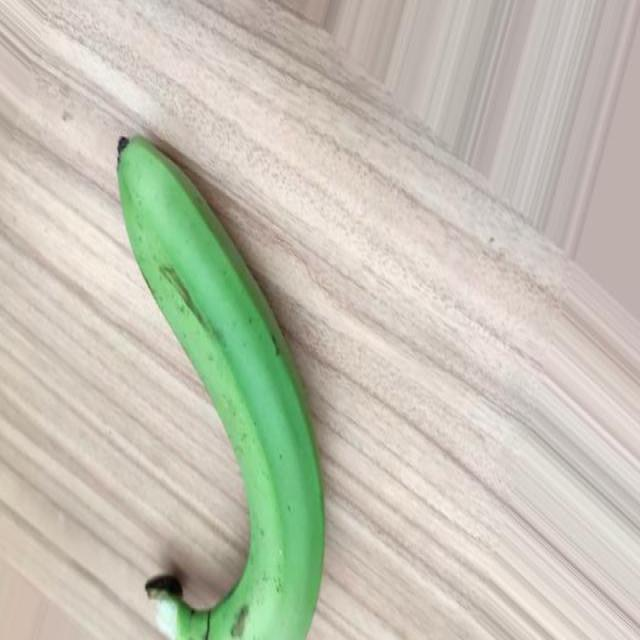Unripe: (115, 135, 325, 640)
